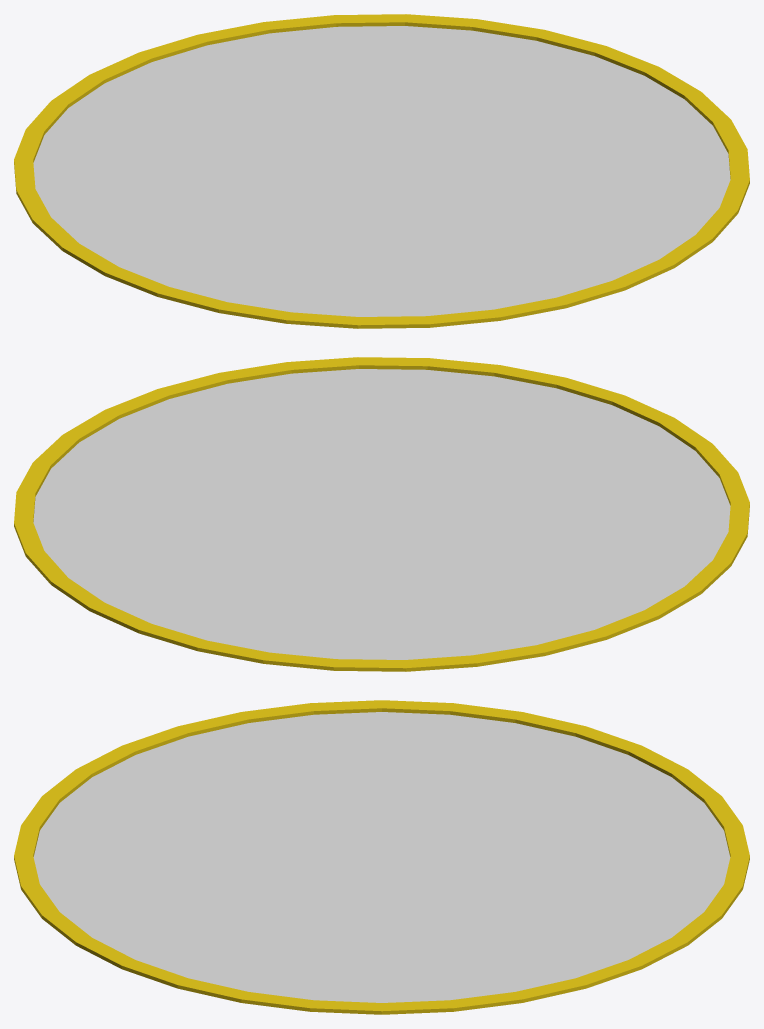
File: rango.fbx
3 renders of one model, top to bottom at view 1: azimuth 30°, elevation 25°; view 2: azimuth 150°, elevation 25°; view 3: azimuth 270°, elevation 25°, orthographic.
Visible parts, largest first — view 1: Circle.001, Circle; view 2: Circle.001, Circle; view 3: Circle.001, Circle.
Part boxes in pixels (x1,y1,x2,y2): Circle.001: (33,26,730,316); Circle: (14,14,749,328); Circle.001: (33,369,730,659); Circle: (14,357,749,671); Circle.001: (33,712,730,1002); Circle: (14,700,749,1014).
Size of the model in its own units: 200 by 1.09 by 200.
